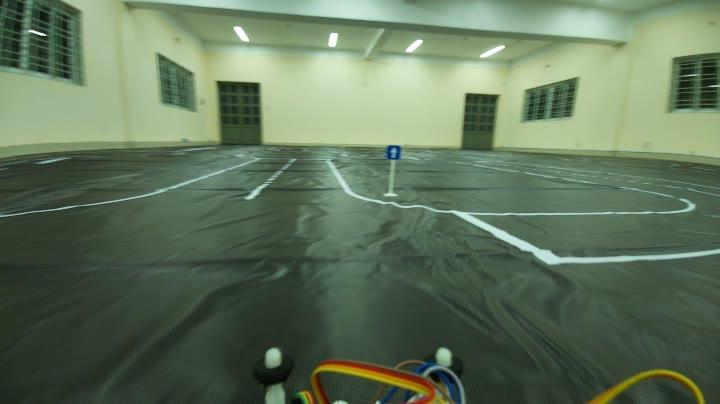onewayroad: (382, 142, 403, 162)
